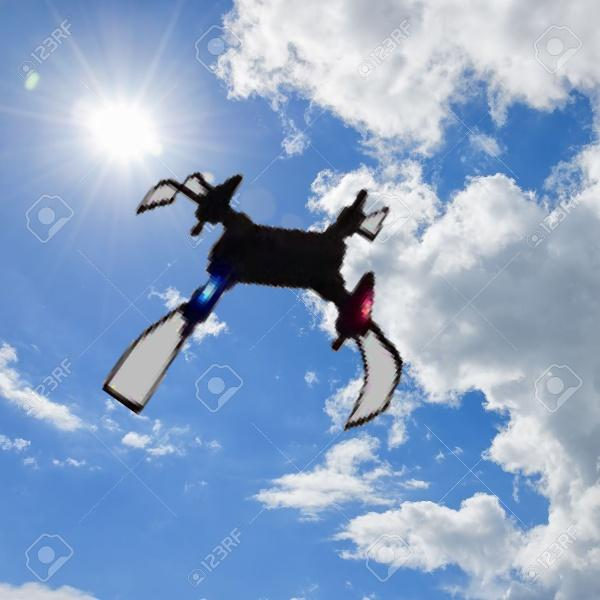drone: (100, 135, 435, 470)
